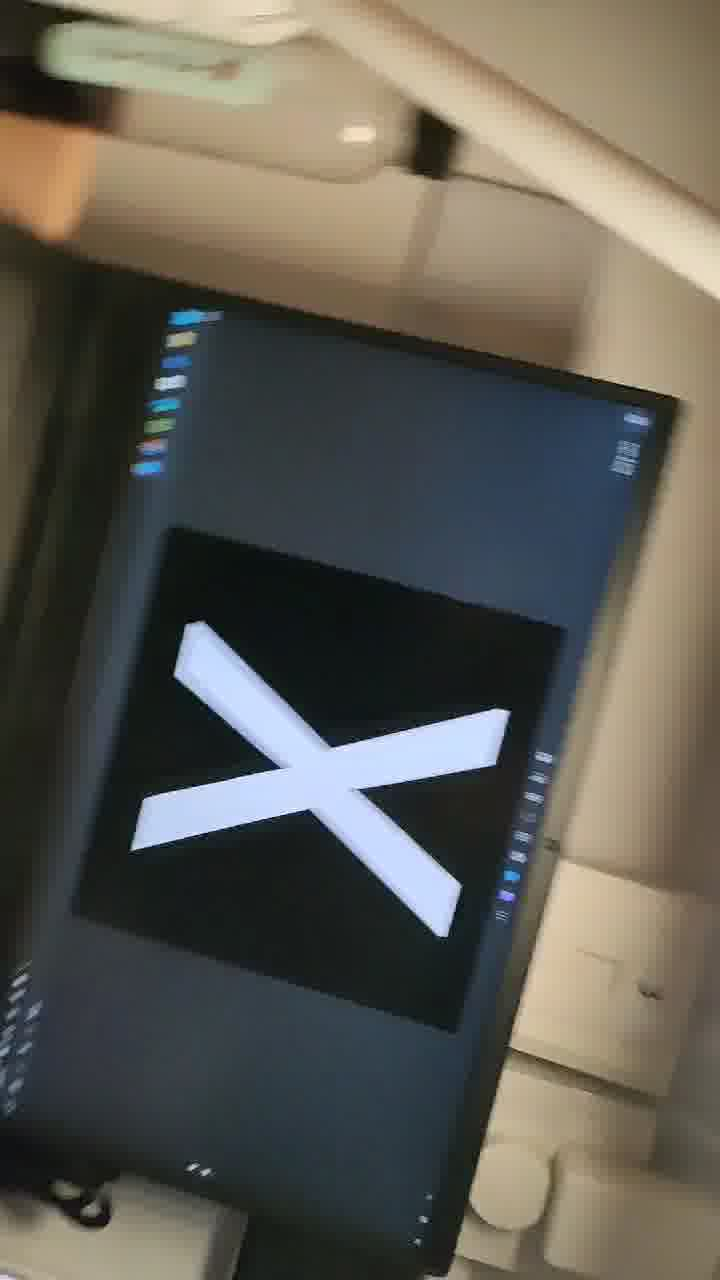X: (163, 588, 565, 1000)
